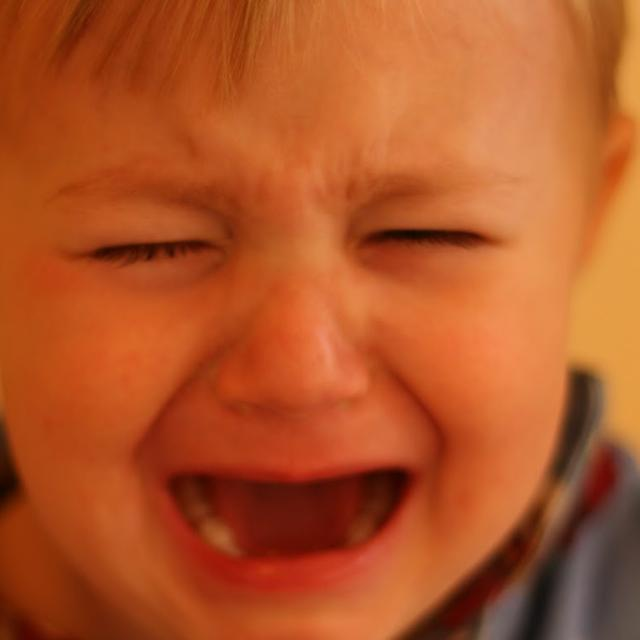Depress: (1, 3, 592, 639)
